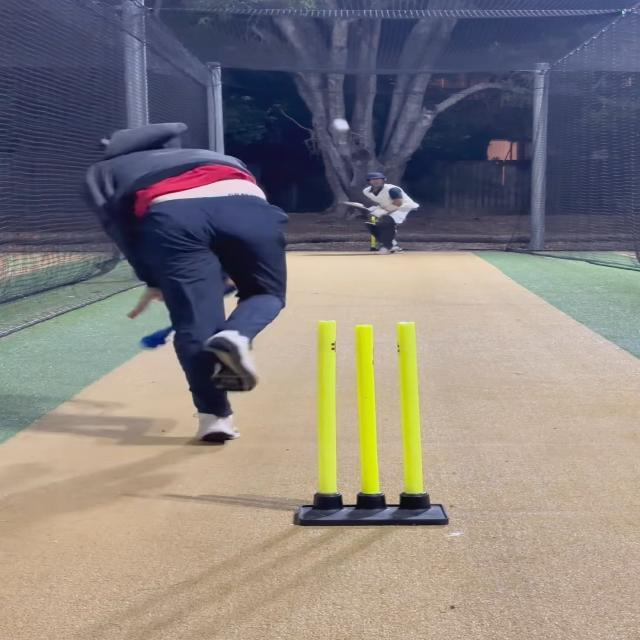ball: (323, 116, 358, 134)
stump: (294, 317, 451, 527)
